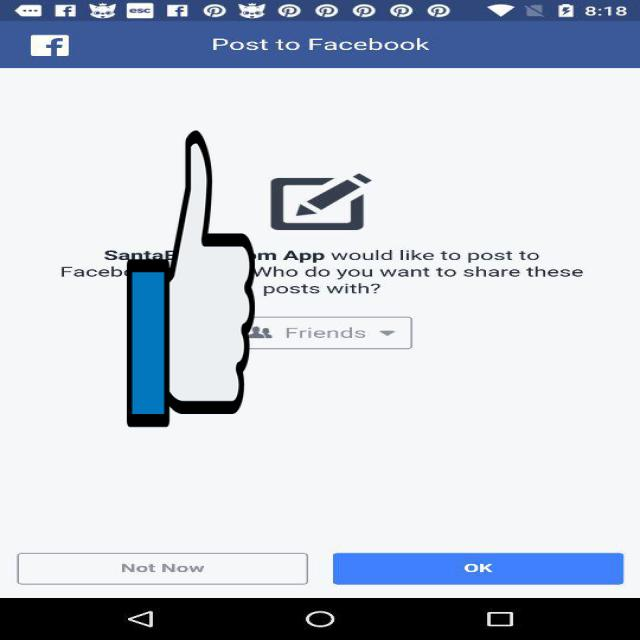privacy zuckering: (127, 124, 255, 433)
